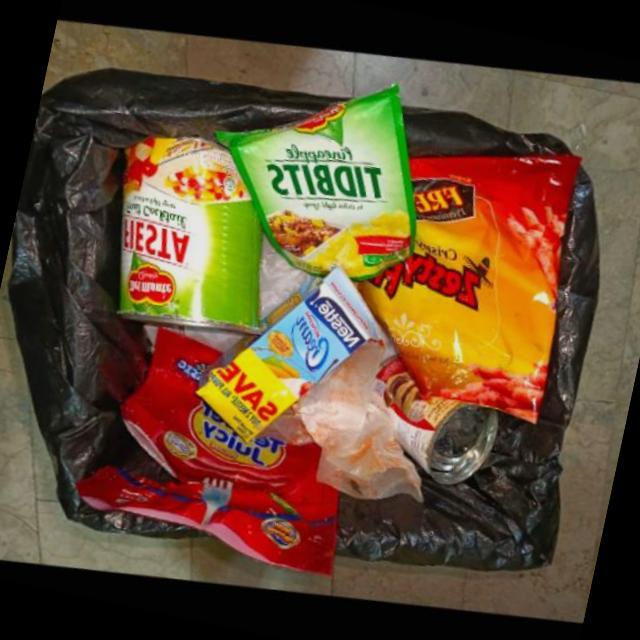bao_bi_thuc_pham: (75, 327, 342, 574), (361, 152, 590, 421), (223, 83, 424, 280)
giay_goi: (260, 338, 426, 501)
nhom: (122, 137, 270, 333), (374, 354, 502, 483)
vo_hop_sua: (199, 262, 388, 442)
